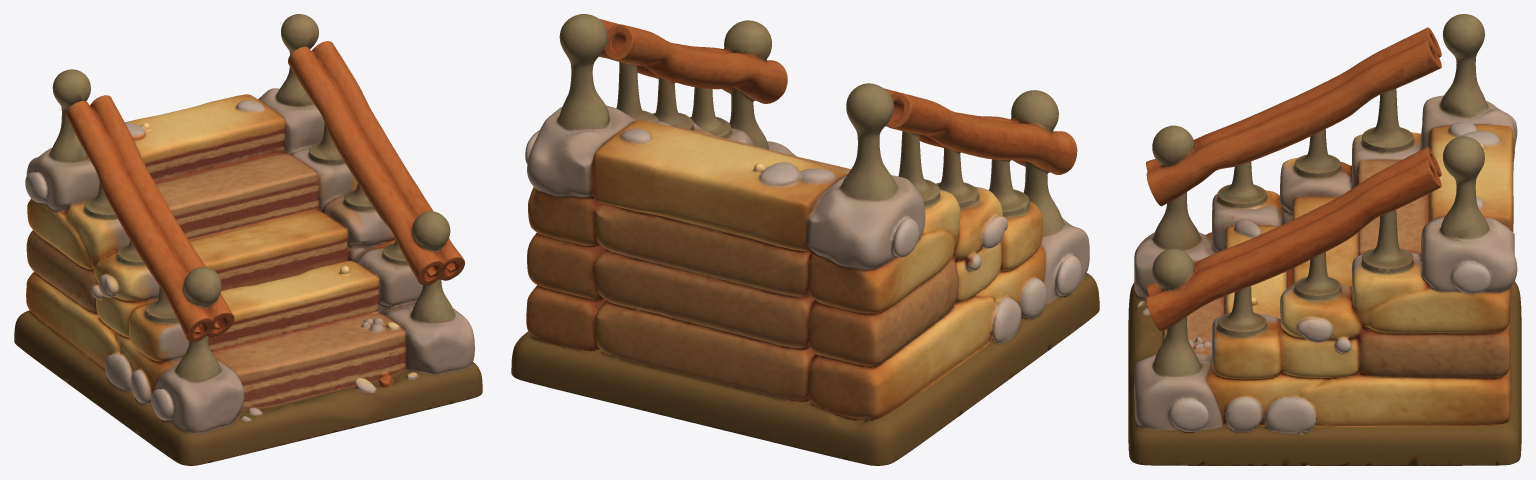
Rendered from terrain-stairs-wafer-ramp.glb.
The picture shows the model from 3 angles, left to right: view 1: azimuth 30°, elevation 25°; view 2: azimuth 150°, elevation 25°; view 3: azimuth 270°, elevation 25°; orthographic projection. The views are drawn at different scales.
Bounding box in the file's own units: 1.35 × 1.17 × 1.36.
1 material, 1 textured.
